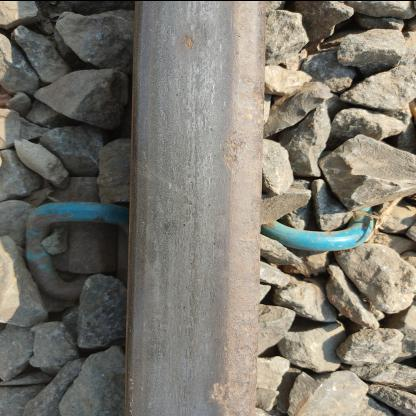Non Defective: (14, 94, 415, 249)
